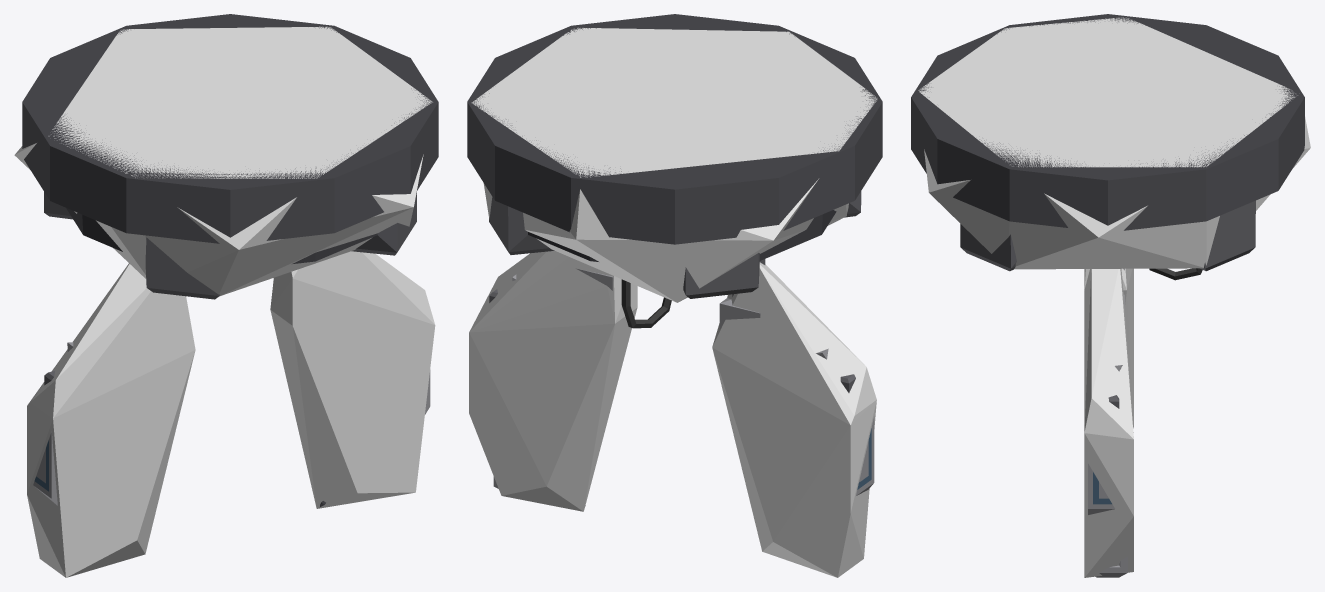
Rendered from SM_Prop_MedicalArms_01.fbx.
3 views of the same model, side by side, from view 1: azimuth 30°, elevation 25°; view 2: azimuth 150°, elevation 25°; view 3: azimuth 270°, elevation 25° (orthographic). The views are drawn at different scales.
Parts seen in each view (by area): view 1: SM_Prop_MedicalArms_01_ConvexHulls, SM_Prop_MedicalArms_01_LOD0; view 2: SM_Prop_MedicalArms_01_ConvexHulls, SM_Prop_MedicalArms_01_LOD0; view 3: SM_Prop_MedicalArms_01_ConvexHulls, SM_Prop_MedicalArms_01_LOD0.
Boxes of the visible parts, left/top/right/bottom form: SM_Prop_MedicalArms_01_ConvexHulls: left=14, top=26, right=435, bottom=577; SM_Prop_MedicalArms_01_LOD0: left=22, top=14, right=438, bottom=506; SM_Prop_MedicalArms_01_ConvexHulls: left=469, top=27, right=877, bottom=577; SM_Prop_MedicalArms_01_LOD0: left=467, top=14, right=882, bottom=505; SM_Prop_MedicalArms_01_ConvexHulls: left=918, top=17, right=1310, bottom=577; SM_Prop_MedicalArms_01_LOD0: left=911, top=14, right=1304, bottom=577.
Size of the model in its own units: 175 by 182 by 196.
Materials: 1 (1 with a texture image).
